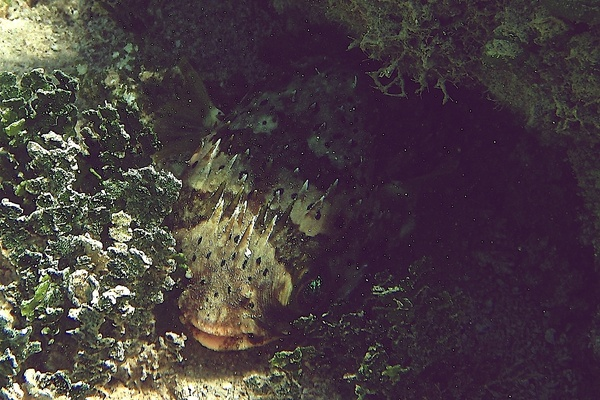Diodon_holocanthus: (147, 57, 480, 352)
